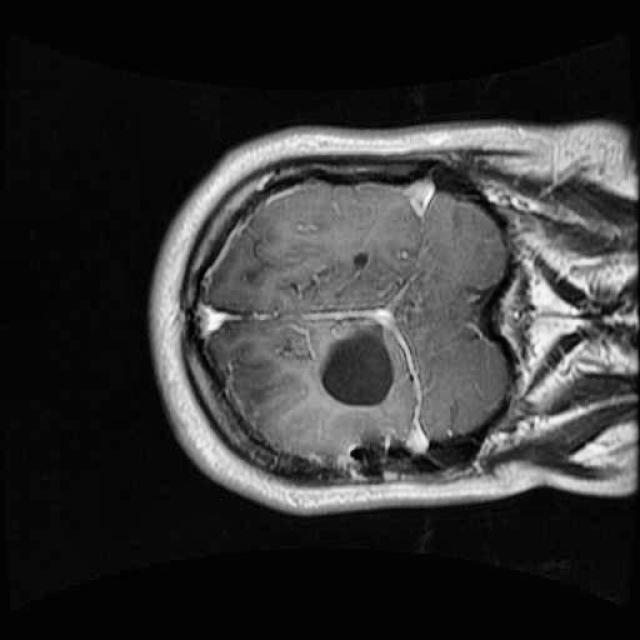Non-Tumor: (306, 306, 409, 424)
